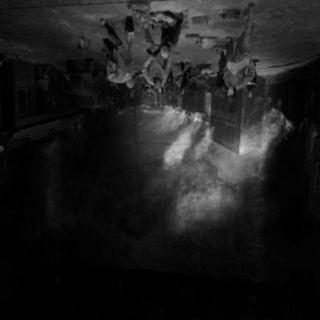Smoke: (138, 101, 285, 235)
